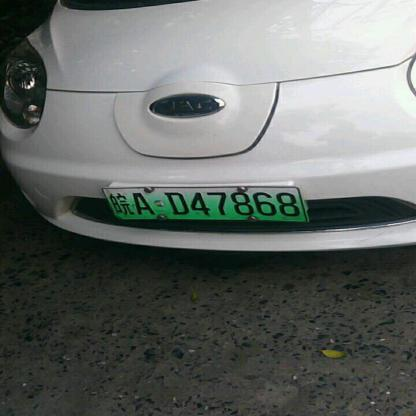lp: (101, 186, 310, 220)
